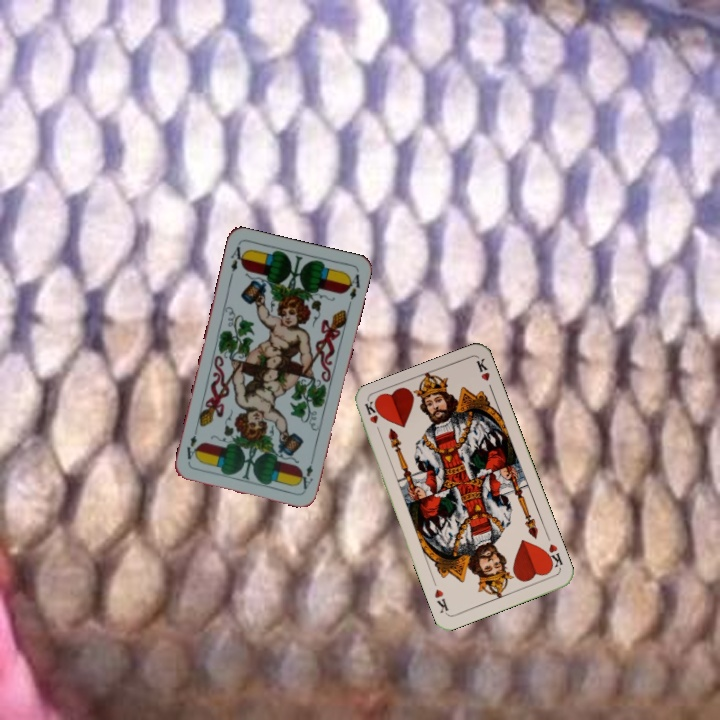EA: (226, 242, 248, 281), (297, 452, 317, 492)
HK: (361, 398, 384, 438), (541, 540, 565, 572)
